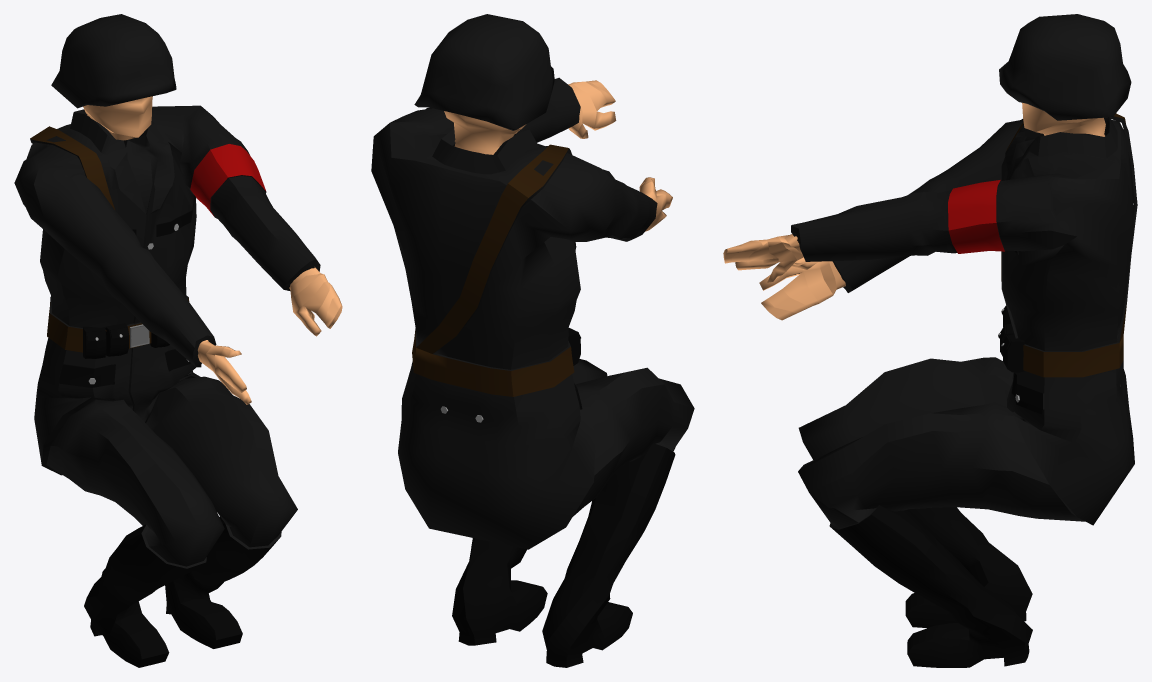
Rendered from german_infantry_aim_crouch_03.glb.
3 renders of one model, left to right at view 1: azimuth 30°, elevation 25°; view 2: azimuth 150°, elevation 25°; view 3: azimuth 270°, elevation 25°, orthographic. The views are drawn at different scales.
Visible parts, largest first — view 1: Soldier_1_Static, Helmet_Static; view 2: Soldier_1_Static, Helmet_Static; view 3: Soldier_1_Static, Helmet_Static.
Part boxes in pixels (x1=…): Soldier_1_Static: x1=14, y1=96, x2=342, y2=667; Helmet_Static: x1=51, y1=14, x2=176, y2=108; Soldier_1_Static: x1=371, y1=77, x2=694, y2=667; Helmet_Static: x1=414, y1=14, x2=554, y2=130; Soldier_1_Static: x1=723, y1=102, x2=1137, y2=667; Helmet_Static: x1=999, y1=14, x2=1131, y2=120.
Bounding box in the file's own units: 0.4721 × 1.26 × 0.7653.
1 material, 1 textured.
